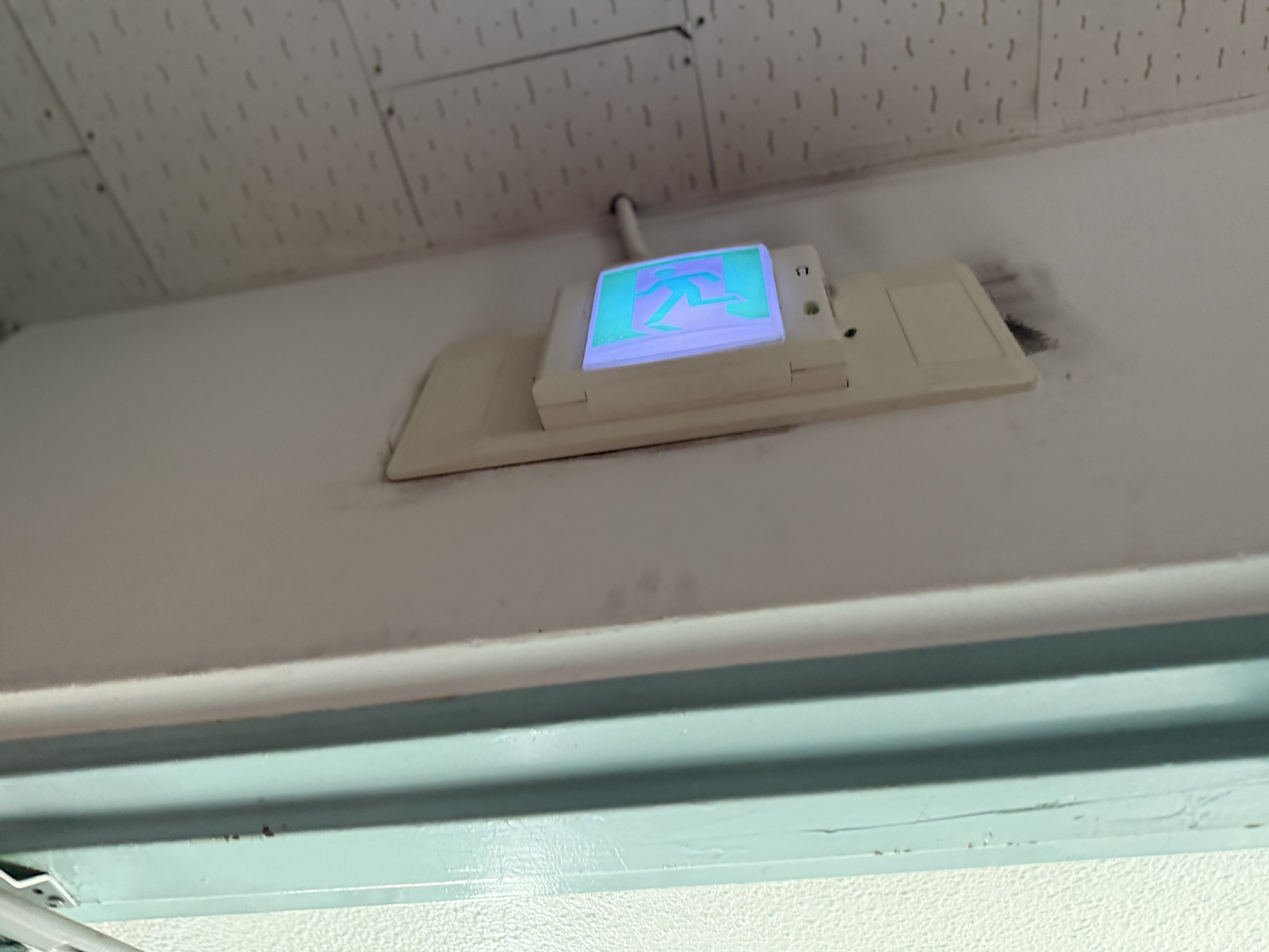emergency_exit: (580, 240, 786, 372)
